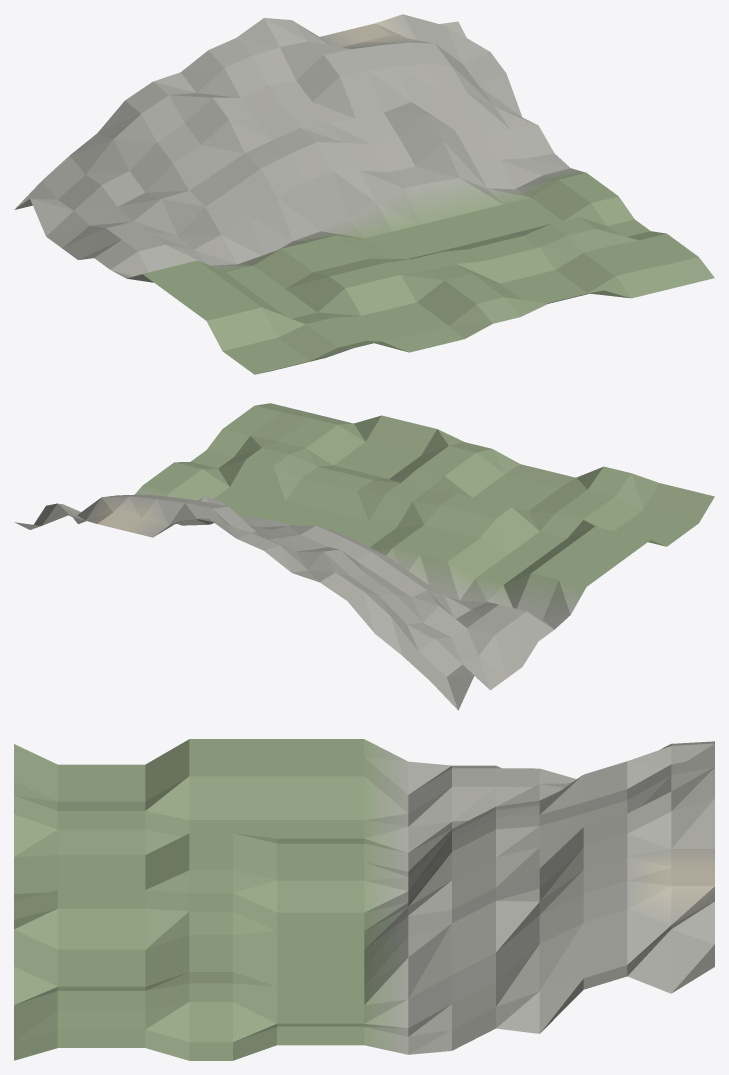
The picture shows the model from 3 angles, top to bottom: view 1: azimuth 30°, elevation 25°; view 2: azimuth 150°, elevation 25°; view 3: azimuth 270°, elevation 25°; orthographic projection. The views are drawn at different scales.
Bounding box in the file's own units: 32 × 9.24 × 32.
